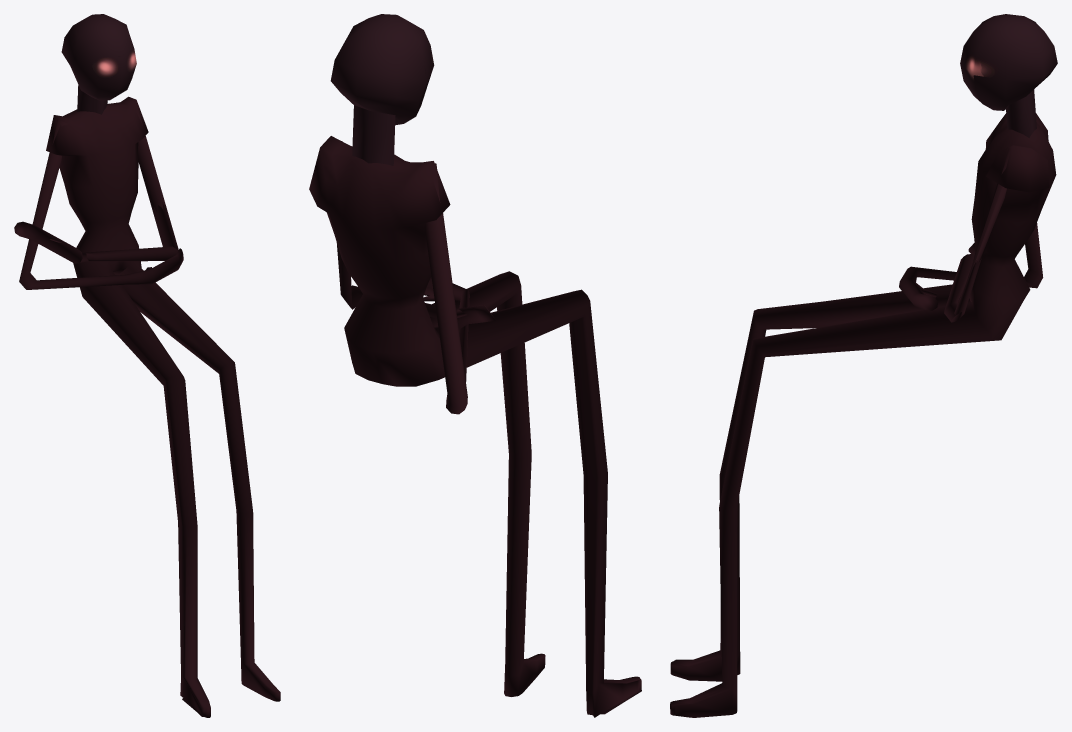
File: creepy_audience_arms_crossed 1.fbx
3 renders of one model, left to right at view 1: azimuth 30°, elevation 25°; view 2: azimuth 150°, elevation 25°; view 3: azimuth 270°, elevation 25°, orthographic. The views are drawn at different scales.
Parts seen in each view (by area): view 1: audience body, audience head; view 2: audience body, audience head; view 3: audience body, audience head.
Boxes of the visible parts, left/top/right/bottom form: audience body: left=14, top=85, right=280, bottom=717; audience head: left=61, top=14, right=136, bottom=100; audience body: left=309, top=105, right=641, bottom=717; audience head: left=330, top=14, right=434, bottom=125; audience body: left=670, top=89, right=1056, bottom=717; audience head: left=960, top=14, right=1057, bottom=110.
Size of the model in its own units: 94.44 by 382 by 197.
Materials: 4 (1 with a texture image).
